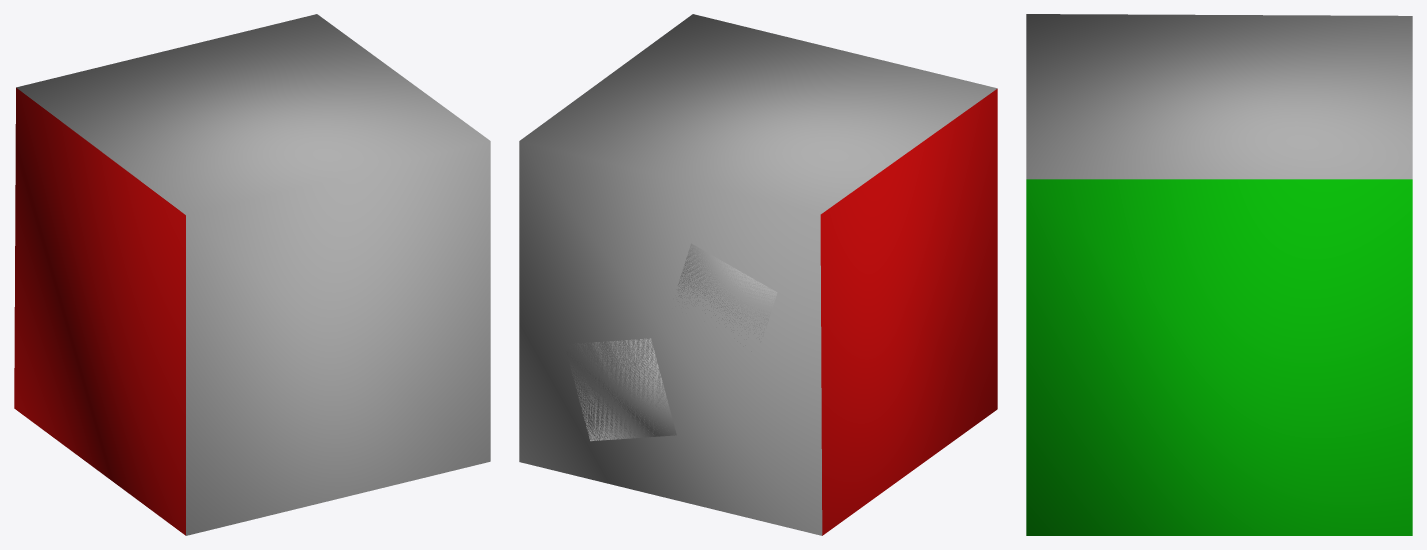
Rendered from cornell-box.glb.
The picture shows the model from 3 angles, left to right: view 1: azimuth 30°, elevation 25°; view 2: azimuth 150°, elevation 25°; view 3: azimuth 270°, elevation 25°; orthographic projection. The views are drawn at different scales.
Visible parts, largest first — view 1: cornell_box; view 2: cornell_box, small_box, large_box; view 3: cornell_box.
Part boxes in pixels (<box>): cornell_box: <box>14,14,490,535</box>; cornell_box: <box>519,14,997,535</box>; small_box: <box>566,338,676,441</box>; large_box: <box>678,243,777,339</box>; cornell_box: <box>1026,14,1412,535</box>.
Bounding box in the file's own units: 511 × 514 × 505.
